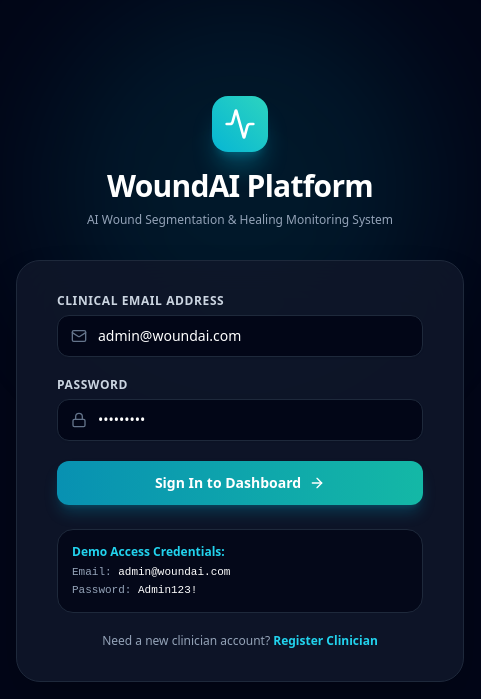
Test: LoginPage › shows loading state during authentication
Click the button "Sign In to Dashboard". click: point(240, 483)
box: left=57, top=461, right=423, bottom=505
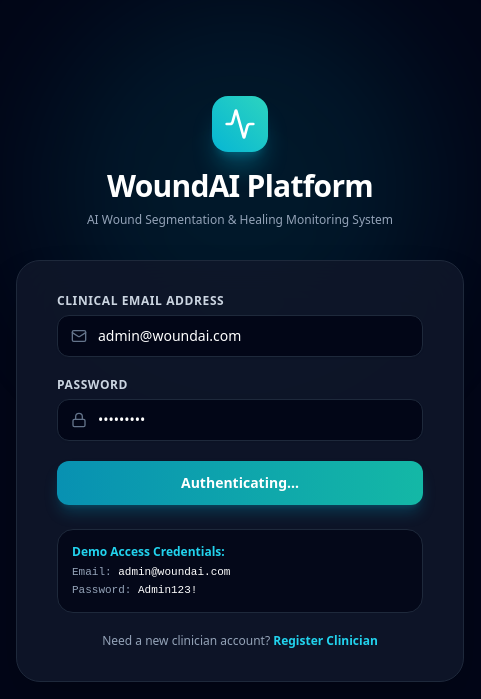
Expected: the text "Authenticating..." is shown, left=181, top=473, right=299, bottom=493
